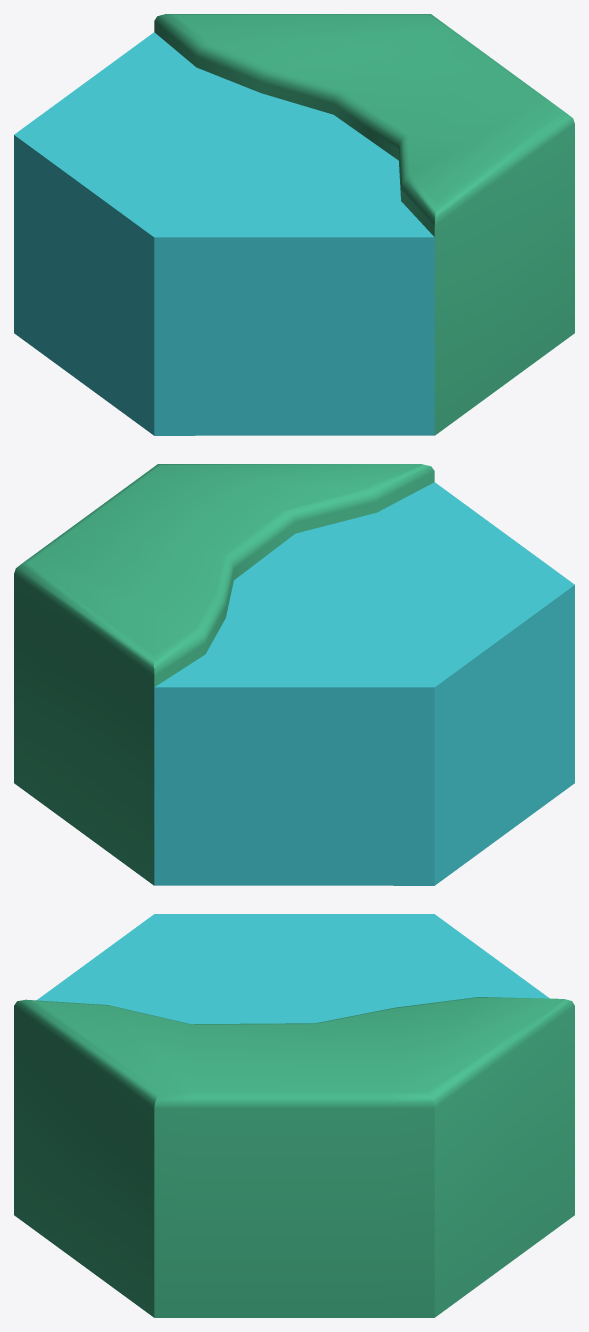
File: hex_forest_waterC.glb
3 renders of one model, top to bottom at view 1: azimuth 30°, elevation 25°; view 2: azimuth 150°, elevation 25°; view 3: azimuth 270°, elevation 25°, orthographic.
Parts seen in each view (by area): view 1: hex_forest_waterC; view 2: hex_forest_waterC; view 3: hex_forest_waterC.
Part boxes in pixels (bbox=[...]): hex_forest_waterC: bbox=[14, 14, 574, 435]; hex_forest_waterC: bbox=[14, 464, 574, 885]; hex_forest_waterC: bbox=[14, 914, 574, 1317].
Size of the model in its own units: 3.43 by 1.72 by 3.96.
